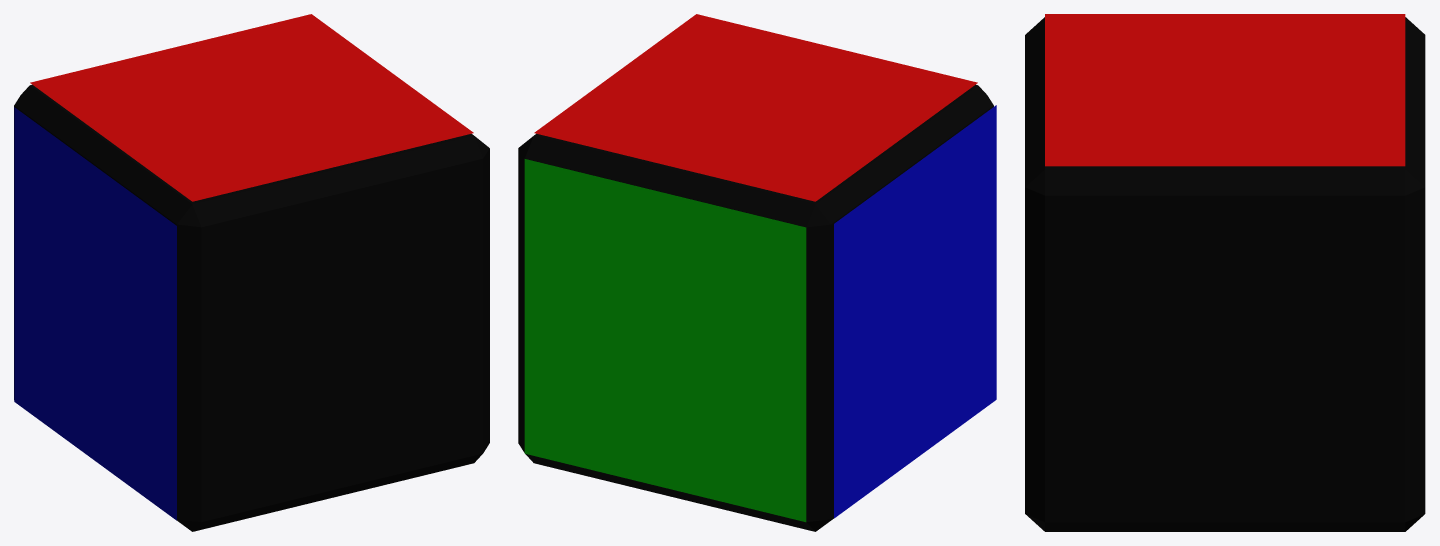
The model's file is rubic7.obj.
3 views of the same model, side by side, from view 1: azimuth 30°, elevation 25°; view 2: azimuth 150°, elevation 25°; view 3: azimuth 270°, elevation 25° (orthographic). The views are drawn at different scales.
Parts seen in each view (by area): view 1: Cube.025_Cube.045; view 2: Cube.025_Cube.045; view 3: Cube.025_Cube.045.
Boxes of the visible parts, x1,y1,x2,y2 form: Cube.025_Cube.045: (14,14,489,531); Cube.025_Cube.045: (518,14,996,531); Cube.025_Cube.045: (1025,14,1425,531).
Size of the model in its own units: 2.01 by 2.02 by 2.
